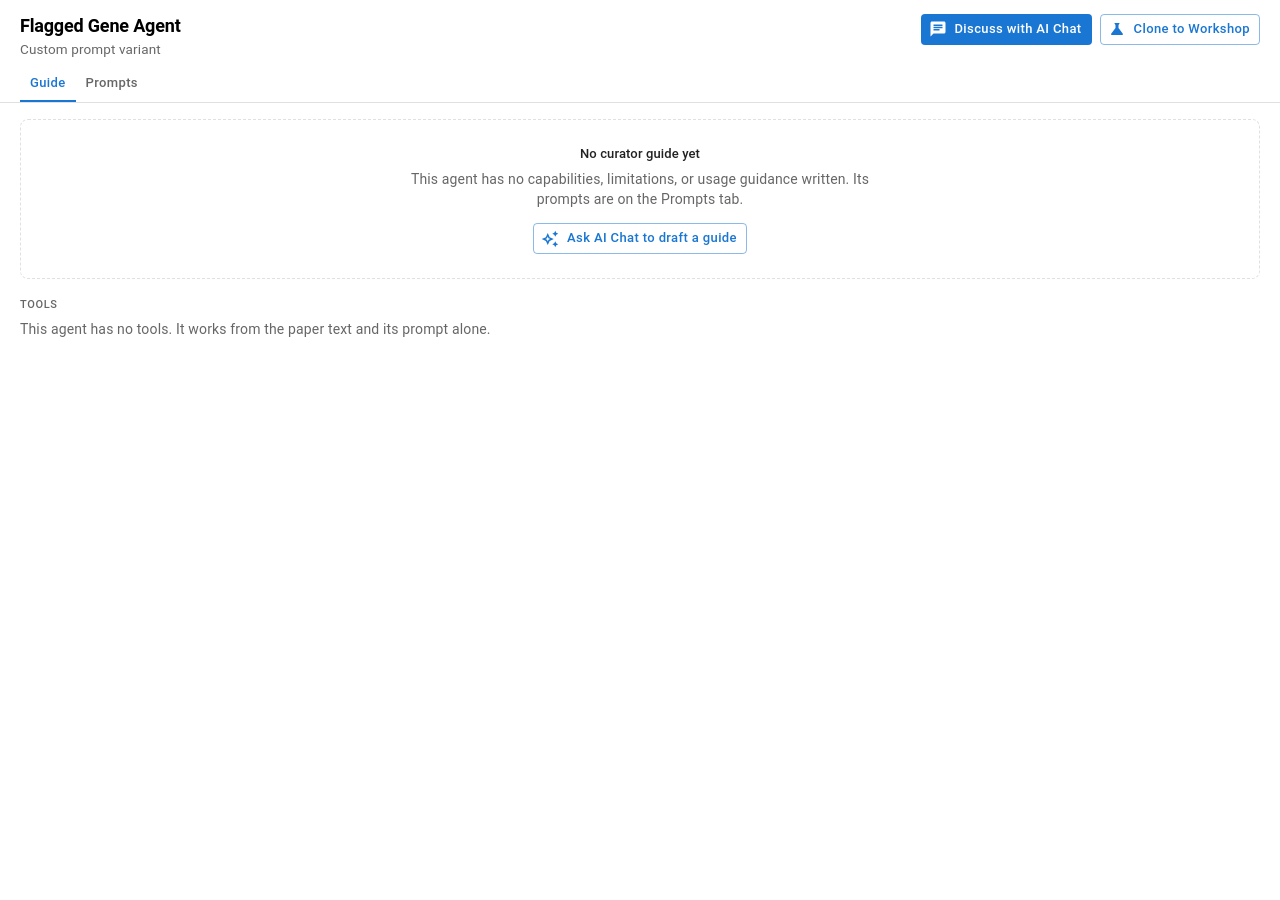
it: AgentDetailsPanel › keeps locked layers in the selected-group fallback for custom agents
Click the tab "Prompts".
click(112, 84)  # box [76,66,148,102]
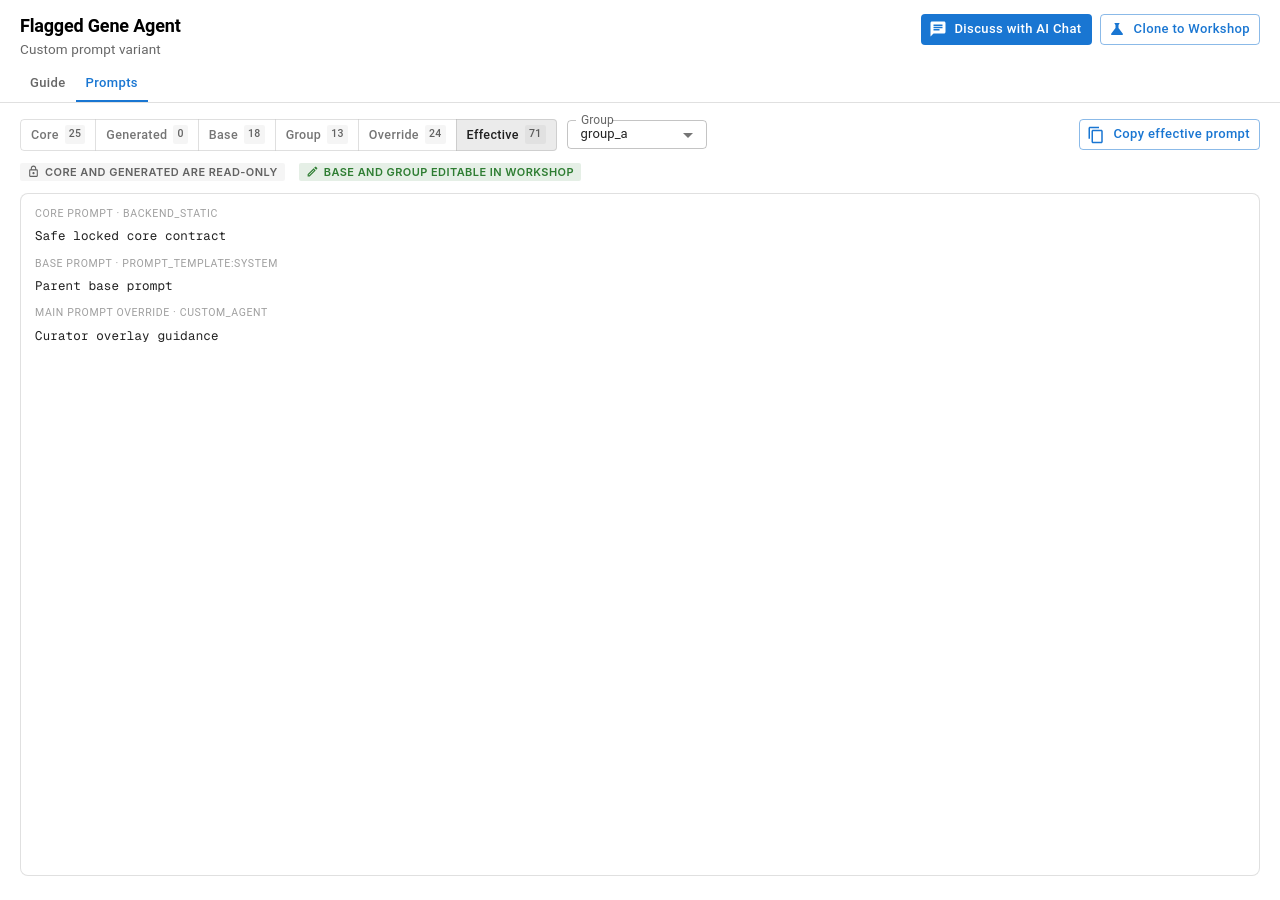
Now the element with test id "prompt-reading-pane" shows "Safe locked core contract", box [35,227,226,244]
Now the element with test id "prompt-reading-pane" shows "Parent base prompt", box [35,277,173,294]
Now the element with test id "prompt-reading-pane" shows "Curator overlay guidance", box [35,327,219,344]
